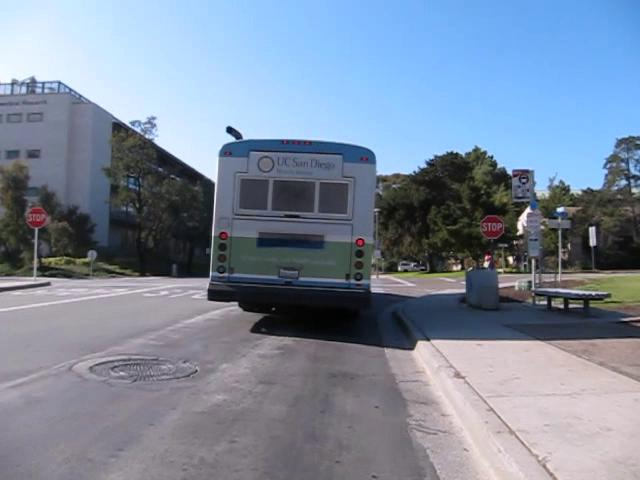stop: (482, 213, 504, 240), (25, 206, 47, 228)
